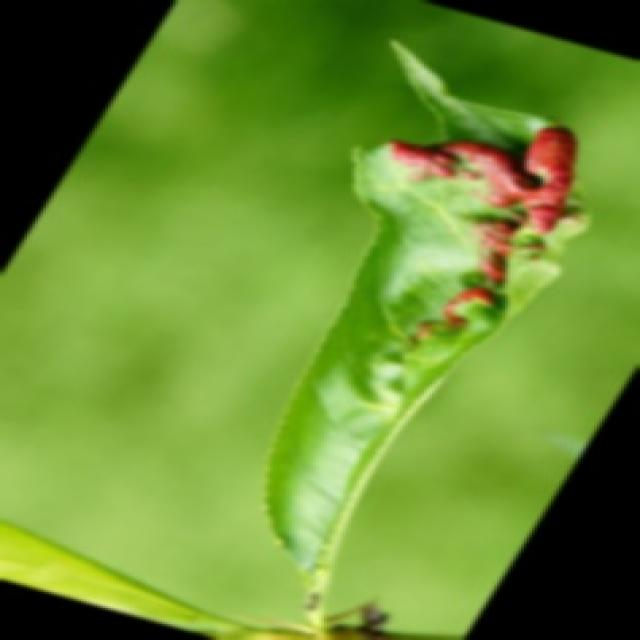peach_leaf_curl: (384, 121, 580, 345)
